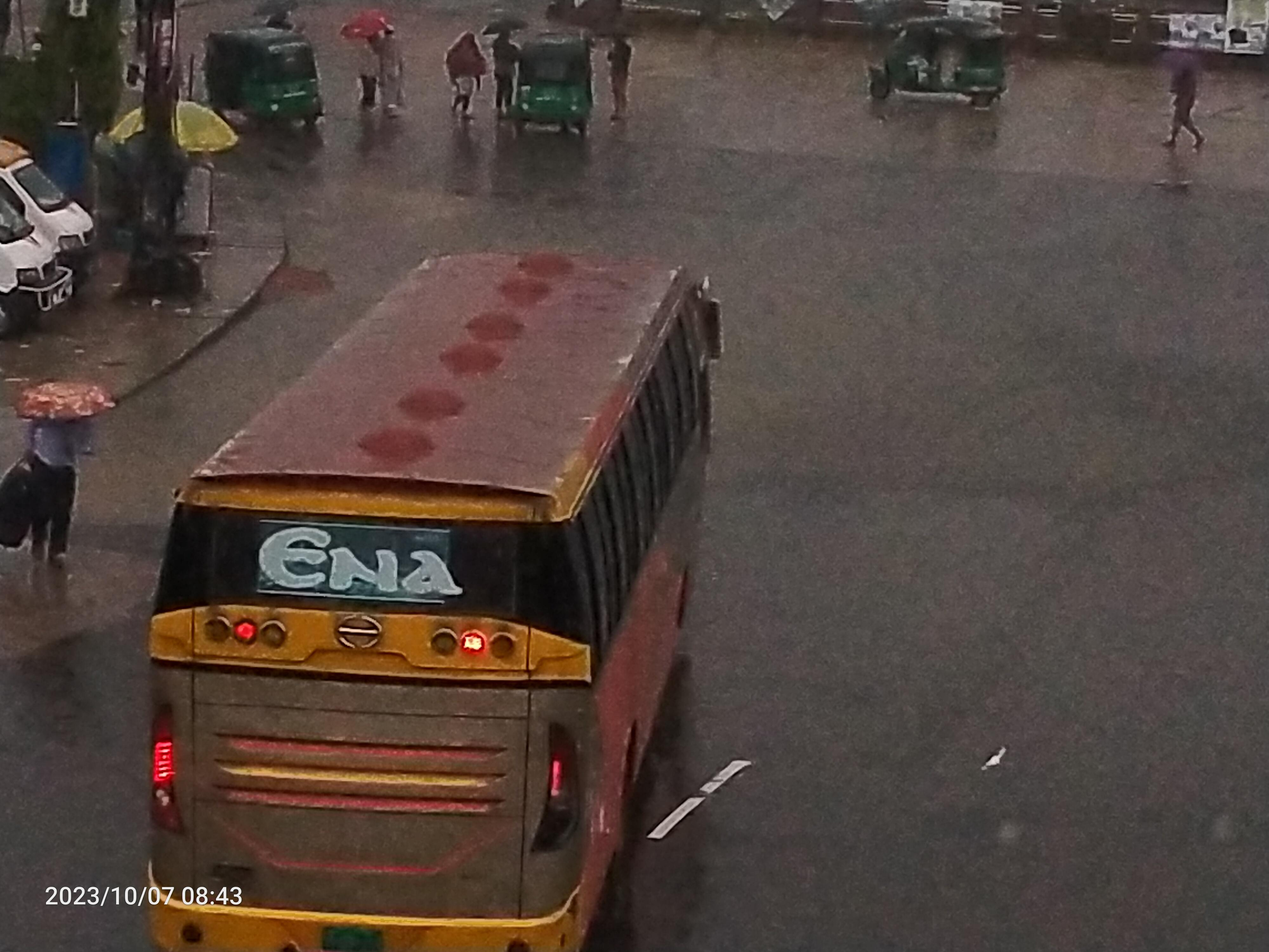Bus: (110, 228, 767, 952)
